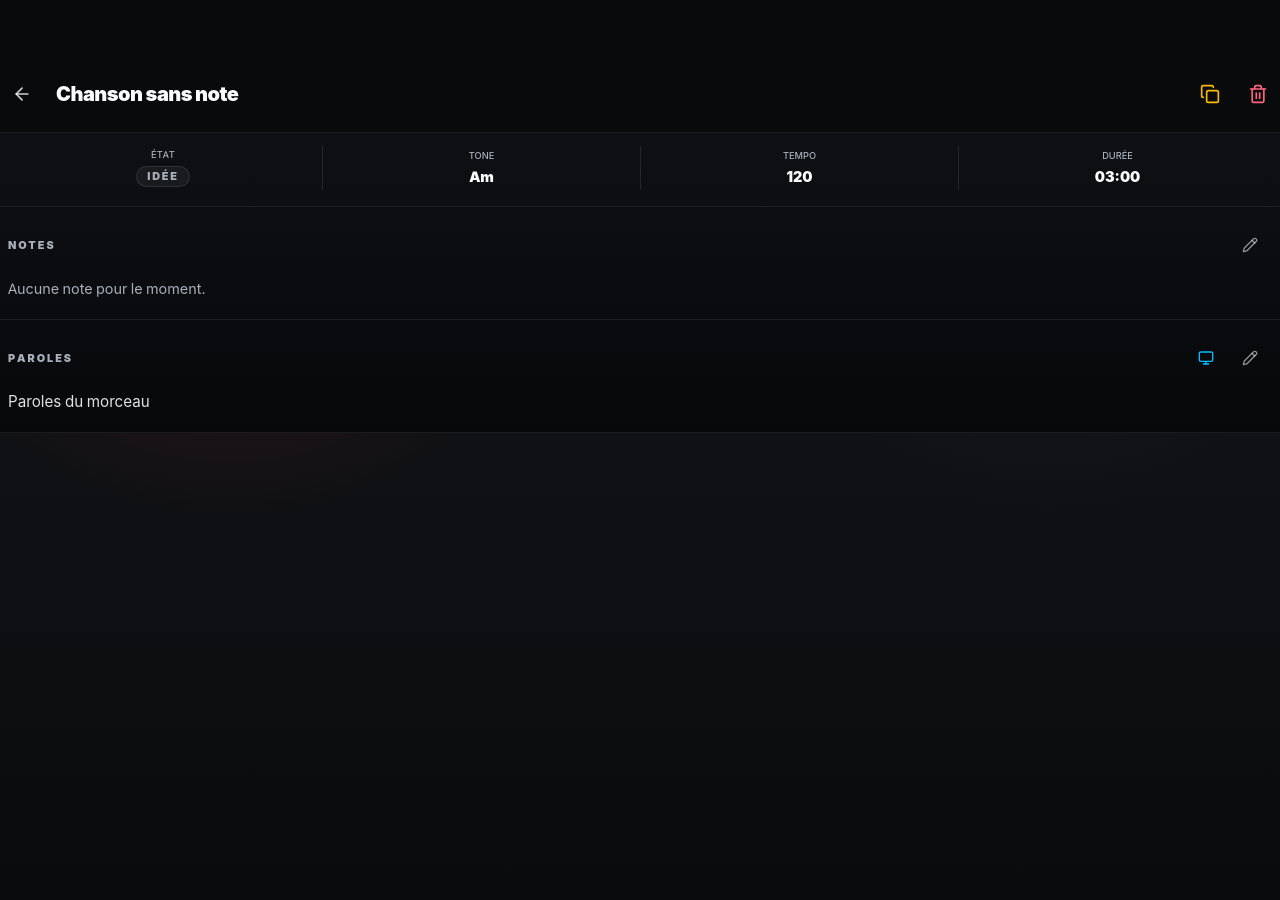
Test: SongDetailPage - Notes › ouvre directement le sélecteur de Modifier le tempo
Click the button with aria-label "Modifier le tempo" at (799, 168), box [640,146,958,190]
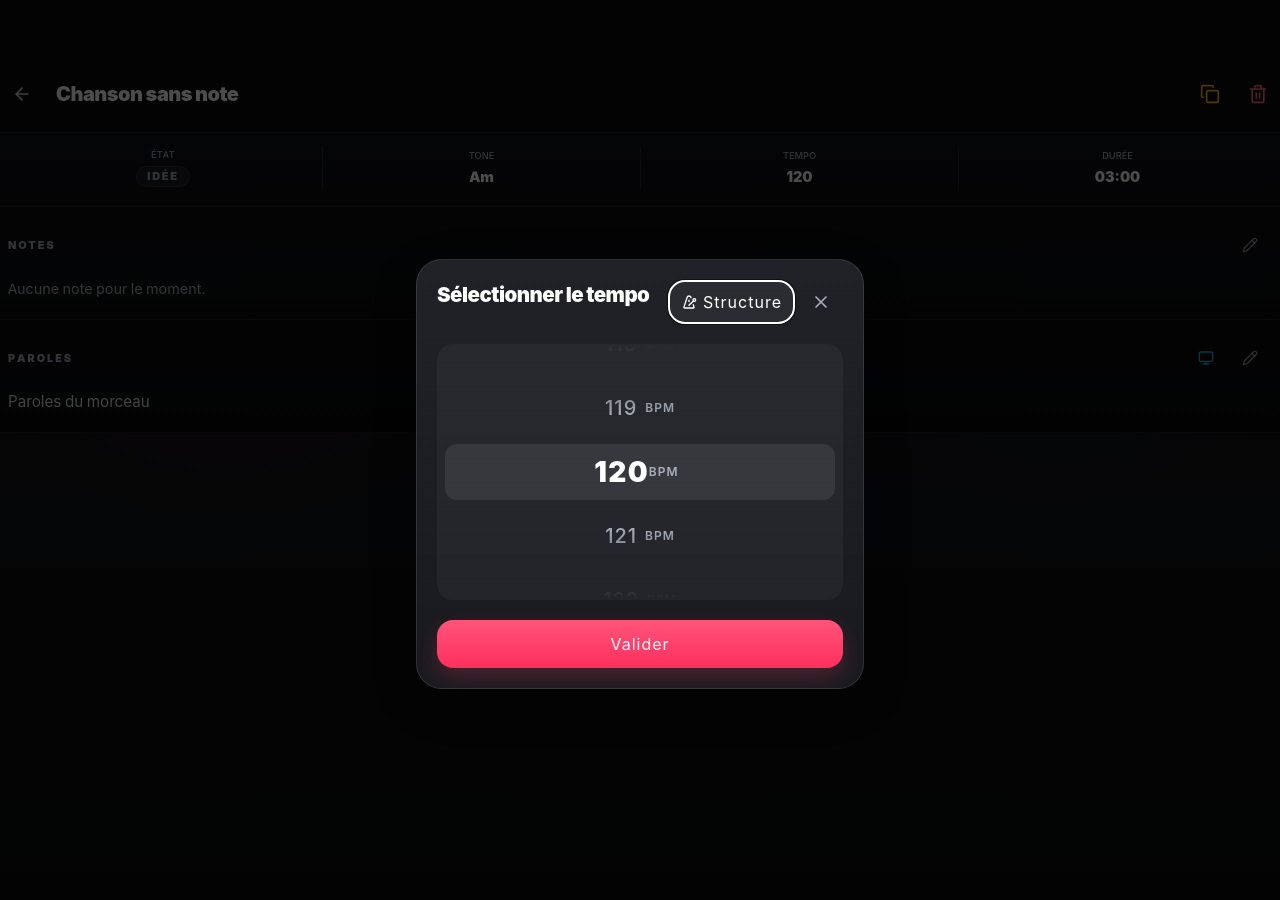
Result: the dialog "Sélectionner le tempo" is shown at [416,259,864,689]
